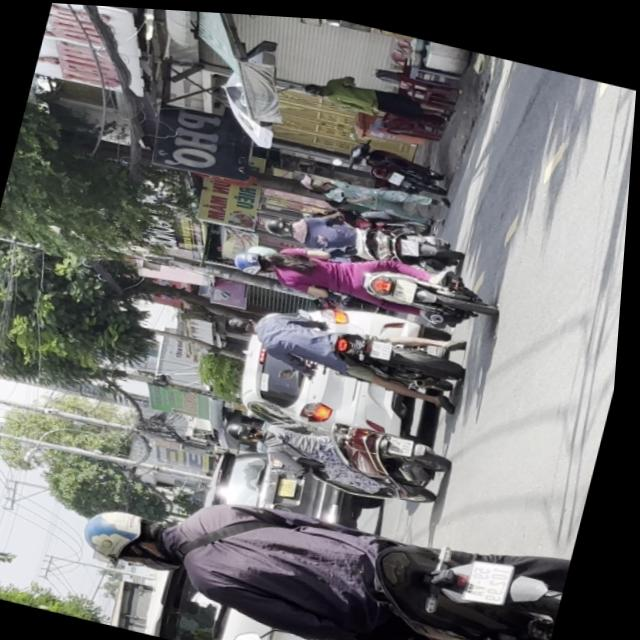helmet: (81, 496, 193, 572), (233, 243, 280, 274), (229, 413, 272, 439), (243, 235, 283, 257), (264, 208, 299, 232)
licenseplate: (65, 437, 585, 640), (224, 220, 506, 335), (218, 286, 478, 407), (218, 386, 464, 507), (259, 189, 472, 278)
motorcyclist: (230, 309, 263, 332)
nohelmet: (470, 548, 522, 599), (394, 272, 421, 297), (394, 428, 420, 451), (373, 334, 399, 355), (401, 230, 426, 251)
